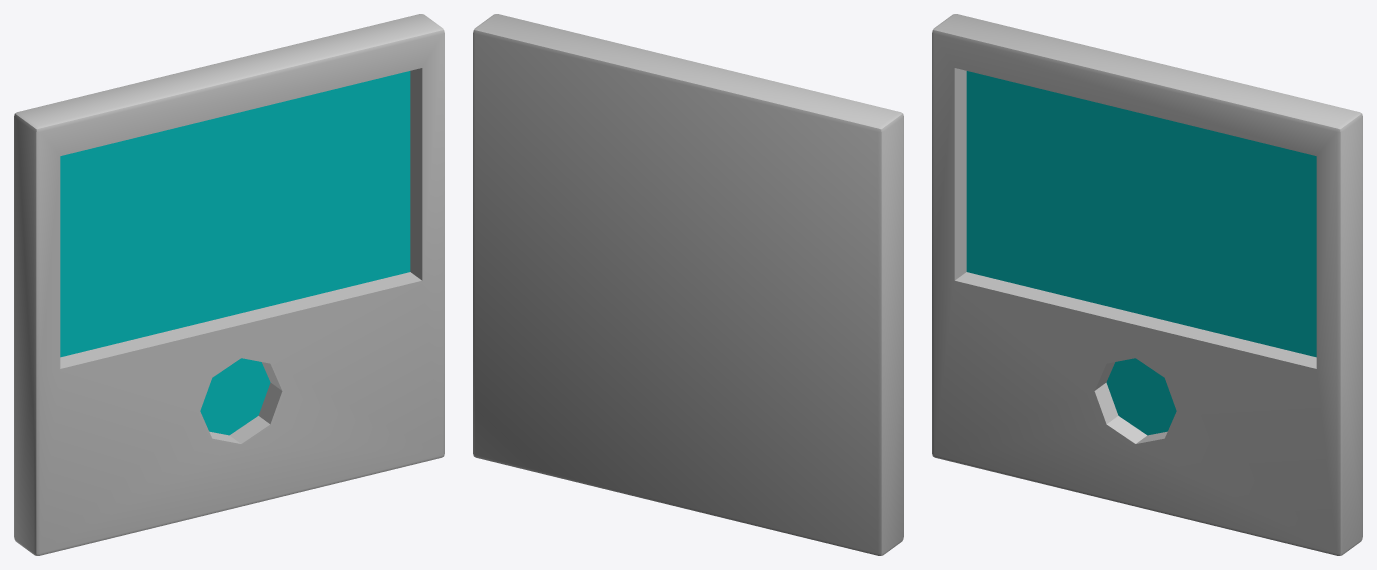
Rendered from Screen_36fhwksh_sd0.fbx.
3 renders of one model, left to right at view 1: azimuth 30°, elevation 25°; view 2: azimuth 150°, elevation 25°; view 3: azimuth 330°, elevation 25°, orthographic.
Parts seen in each view (by area): view 1: Screen; view 2: Screen; view 3: Screen.
Boxes of the visible parts, x1=… form: Screen: x1=14, y1=14, x2=444, y2=555; Screen: x1=473, y1=14, x2=903, y2=555; Screen: x1=932, y1=14, x2=1362, y2=555.
Bounding box in the file's own units: 200 × 200 × 20.
